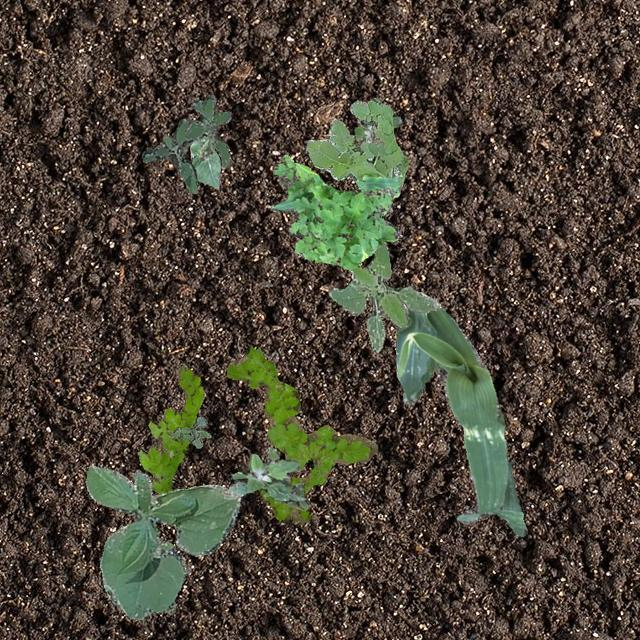crop: (394, 291, 526, 535), (84, 464, 240, 618), (190, 134, 220, 188)
weed: (226, 344, 376, 522), (270, 154, 400, 268), (328, 240, 440, 350), (304, 98, 408, 196), (140, 94, 230, 192), (138, 364, 202, 494), (228, 446, 308, 508), (156, 540, 188, 614), (168, 416, 210, 446), (354, 116, 401, 140)
